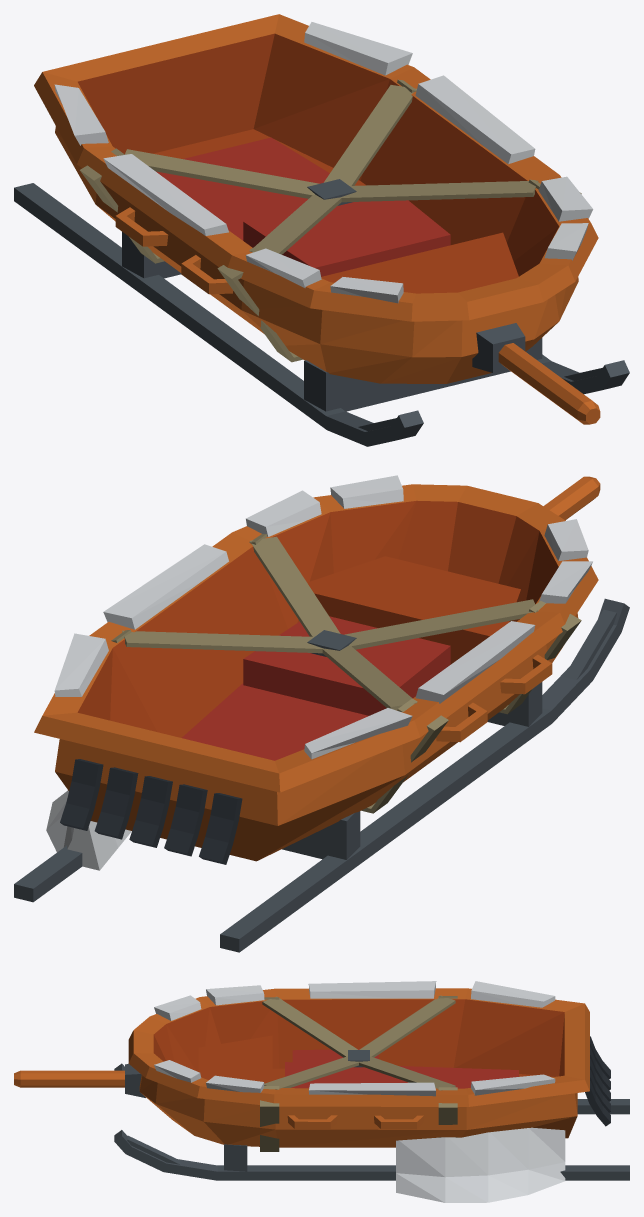
Rendered from akja-rescue-sledge-a3727f.glb.
3 views of the same model, one above another, from view 1: azimuth 30°, elevation 25°; view 2: azimuth 150°, elevation 25°; view 3: azimuth 270°, elevation 25° (orthographic). The views are drawn at different scales.
Parts seen in each view (by area): view 1: akja-rescue-sledge, bedding, tow-bar; view 2: akja-rescue-sledge, bedding, brake-flap, tow-bar; view 3: akja-rescue-sledge, bedding, tow-bar, brake-flap.
Boxes of the visible parts, x1,y1,x2,y2 form: akja-rescue-sledge: [14, 14, 629, 446]; bedding: [156, 137, 450, 276]; tow-bar: [498, 343, 600, 424]; akja-rescue-sledge: [14, 475, 629, 952]; bedding: [182, 616, 450, 760]; brake-flap: [60, 759, 242, 864]; tow-bar: [543, 476, 600, 520]; akja-rescue-sledge: [114, 981, 629, 1202]; bedding: [285, 1049, 518, 1088]; tow-bar: [14, 1070, 124, 1087]; brake-flap: [585, 1036, 610, 1126].
Size of the model in its own units: 0.8898 by 0.3899 by 2.
